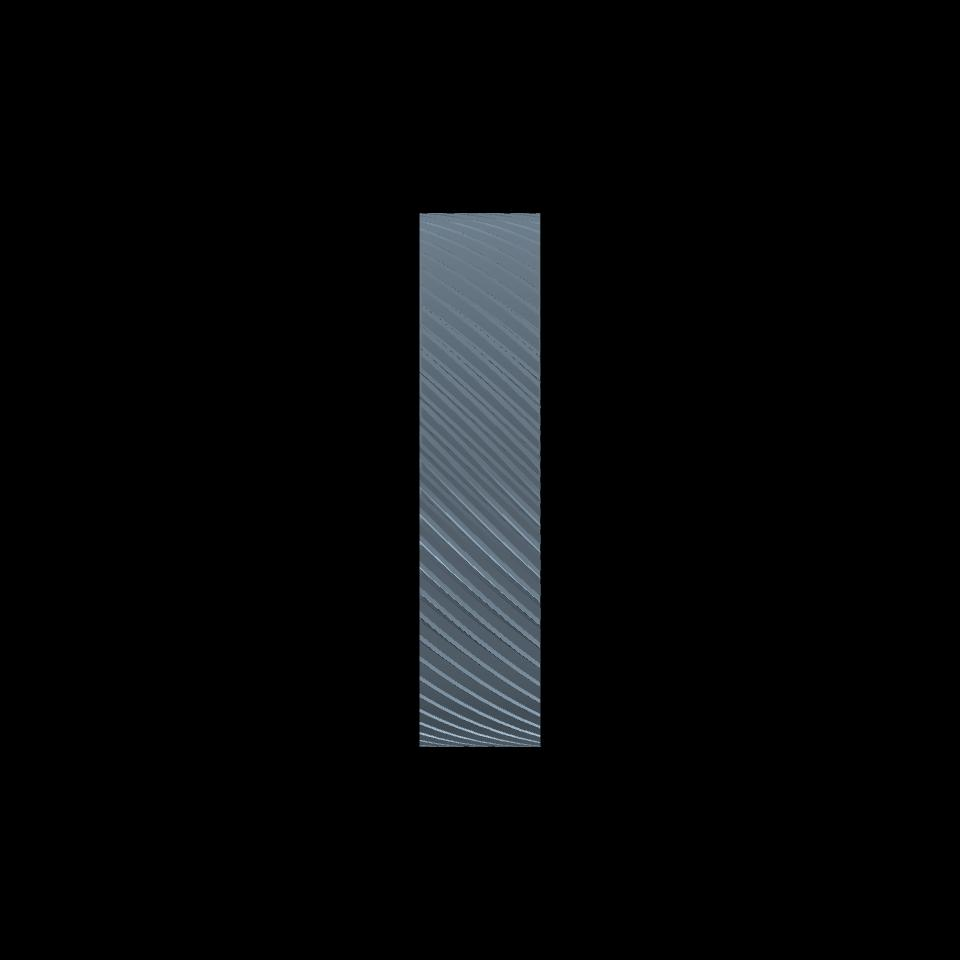Helical: (418, 214, 540, 746)
